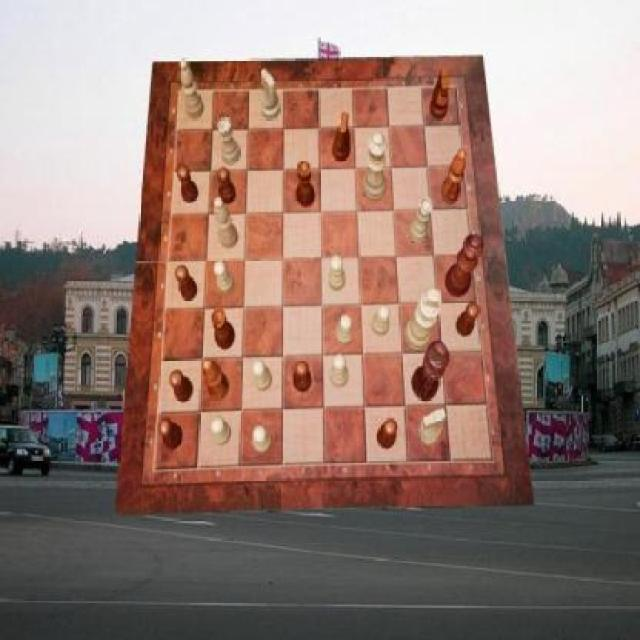bishop: (442, 149, 468, 204), (202, 358, 228, 401)
black-bishop: (412, 340, 450, 402)
black-king: (429, 66, 448, 120), (334, 112, 351, 162)
black-knight: (170, 369, 194, 403), (456, 302, 480, 336), (177, 165, 199, 202), (158, 418, 182, 451), (176, 264, 198, 300), (217, 168, 236, 204), (292, 360, 312, 392), (377, 418, 397, 449)
black-pawn: (446, 234, 484, 296)
black-queen: (210, 308, 234, 350), (296, 160, 314, 208)
black-rook: (180, 60, 205, 120), (214, 197, 238, 249)
white-bishop: (405, 288, 442, 352)
white-king: (260, 69, 280, 122), (419, 408, 446, 446)
white-knight: (214, 260, 234, 295), (252, 360, 272, 392), (372, 305, 392, 337), (331, 352, 348, 387), (329, 255, 346, 290), (211, 417, 231, 446), (335, 314, 353, 346), (252, 426, 272, 454)
white-pawn: (363, 132, 388, 202)
white-queen: (409, 197, 433, 243), (217, 117, 240, 165)
